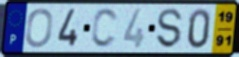0: (187, 7, 213, 51)
4: (121, 7, 146, 50), (56, 7, 80, 50)
C: (89, 7, 120, 50)
O: (24, 8, 55, 50)
S: (156, 8, 184, 50)
